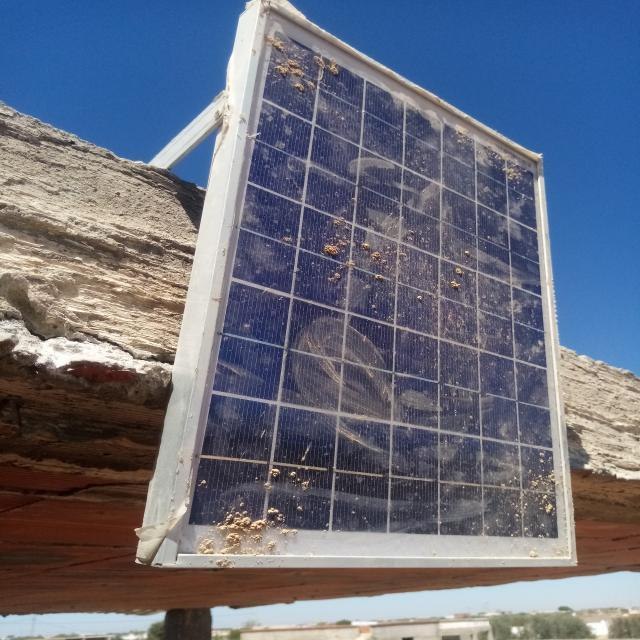faulty: (156, 3, 576, 565)
